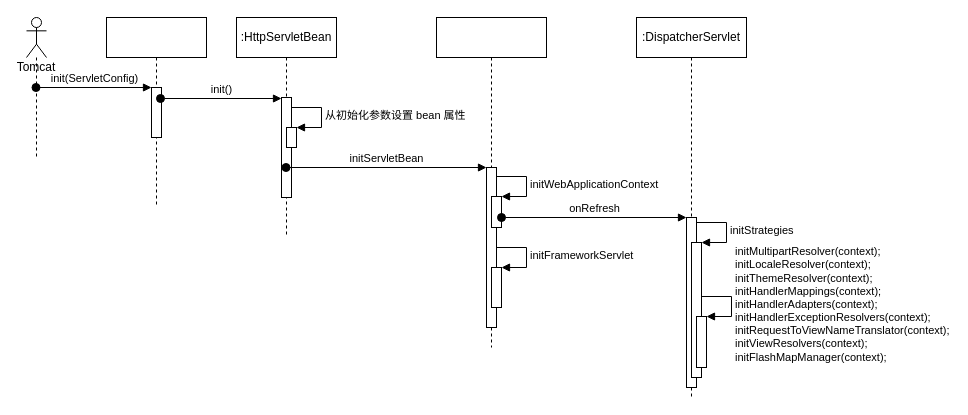
Image size: 968x415. Some labels were removed from this diagram. Here are the shapes that lost their labels. From the top down, the centre of each, then its label:
point (156, 112): :GenericServlet
point (491, 182): :FrameworkServlet
